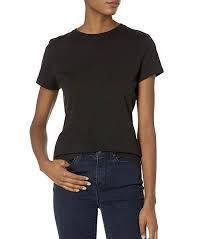Tshirt: (22, 16, 176, 156)
